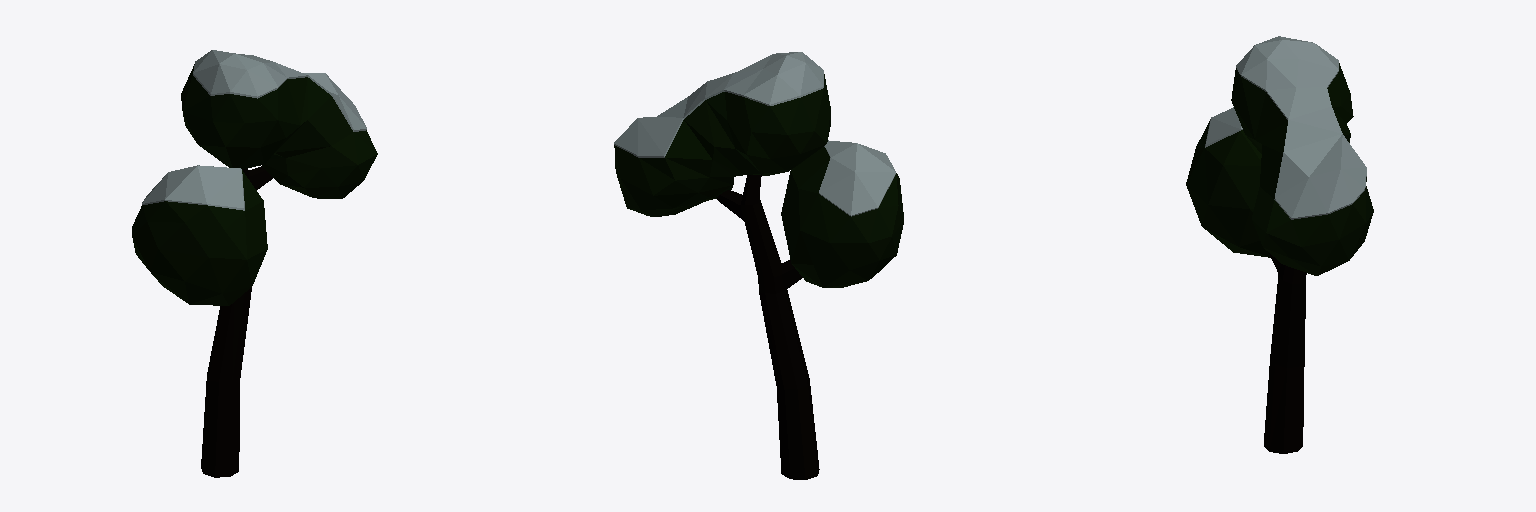
Rendered from Arbusto_nieve.obj.
3 views of the same model, side by side, from view 1: azimuth 30°, elevation 25°; view 2: azimuth 150°, elevation 25°; view 3: azimuth 270°, elevation 25° (orthographic).
Parts seen in each view (by area): view 1: Object007; view 2: Object007; view 3: Object007.
Part boxes in pixels (bbox=[...]): Object007: bbox=[132, 50, 377, 477]; Object007: bbox=[614, 52, 903, 479]; Object007: bbox=[1186, 36, 1373, 453].
Bounding box in the file's own units: 20.43 × 32.52 × 13.42.